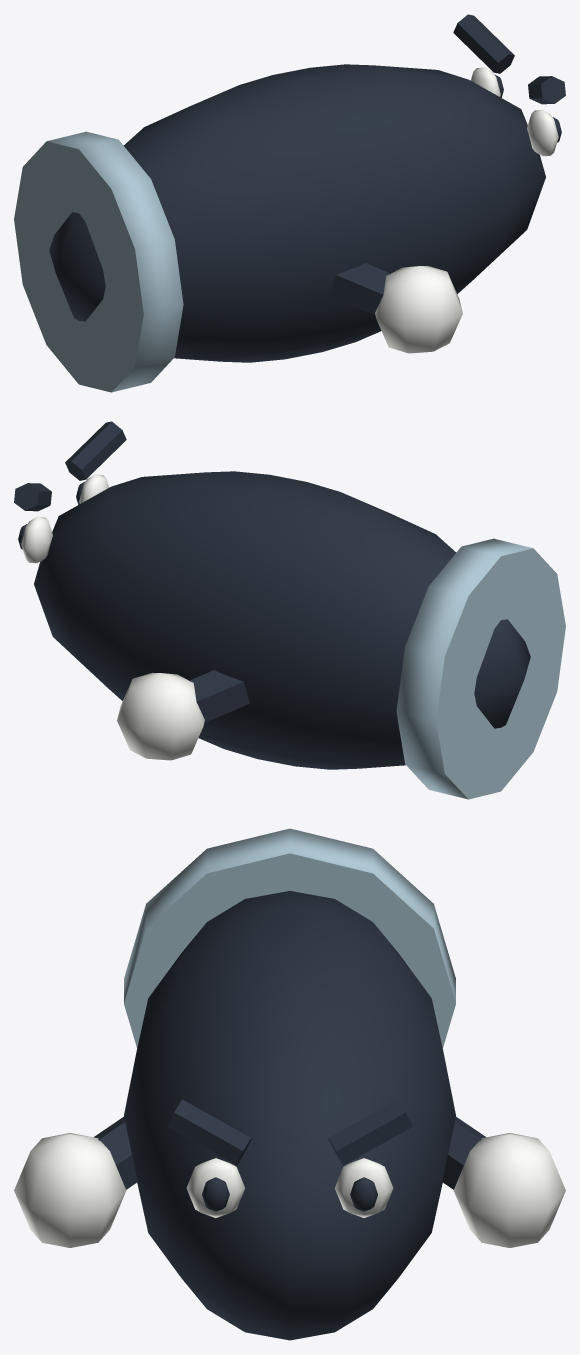
File: bullet_bill.glb
3 views of the same model, one above another, from view 1: azimuth 30°, elevation 25°; view 2: azimuth 150°, elevation 25°; view 3: azimuth 270°, elevation 25° (orthographic). The views are drawn at different scales.
Parts seen in each view (by area): view 1: Bullet body, Tail band, Fist.001, Little arm, Angry brow, Eye white.001, Angry brow.001, Eye white; view 2: Bullet body, Tail band, Fist, Little arm.001, Angry brow.001, Eye white, Angry brow, Eye white.001; view 3: Bullet body, Tail band, Fist.001, Fist, Angry brow.001, Angry brow, Eye white.001, Eye white, Little arm, Little arm.001, Pupil.001, Pupil.
Boxes of the visible parts, left/top/right/bottom form: Bullet body: left=49, top=64, right=545, bottom=362; Tail band: left=14, top=131, right=183, bottom=392; Fist.001: left=375, top=265, right=462, bottom=353; Little arm: left=330, top=263, right=390, bottom=315; Angry brow: left=453, top=14, right=514, bottom=73; Eye white.001: left=527, top=109, right=558, bottom=156; Angry brow.001: left=528, top=76, right=565, bottom=104; Eye white: left=470, top=67, right=500, bottom=96; Bullet body: left=34, top=471, right=530, bottom=769; Tail band: left=396, top=538, right=565, bottom=799; Fist: left=117, top=672, right=204, bottom=760; Little arm.001: left=189, top=670, right=249, bottom=722; Angry brow.001: left=65, top=421, right=126, bottom=480; Eye white: left=21, top=516, right=52, bottom=563; Angry brow: left=14, top=483, right=51, bottom=511; Eye white.001: left=79, top=474, right=109, bottom=503; Bullet body: left=124, top=891, right=455, bottom=1340; Tail band: left=124, top=828, right=455, bottom=1048; Fist.001: left=14, top=1133, right=126, bottom=1247; Fist: left=453, top=1133, right=565, bottom=1247; Angry brow.001: left=167, top=1099, right=251, bottom=1165; Angry brow: left=328, top=1099, right=412, bottom=1165; Eye white.001: left=186, top=1158, right=244, bottom=1217; Eye white: left=335, top=1158, right=393, bottom=1217; Little arm: left=94, top=1117, right=137, bottom=1189; Little arm.001: left=442, top=1117, right=485, bottom=1189; Pupil.001: left=202, top=1177, right=229, bottom=1211; Pupil: left=350, top=1177, right=377, bottom=1211.
Size of the model in its own units: 2.8 by 1.44 by 2.16.
